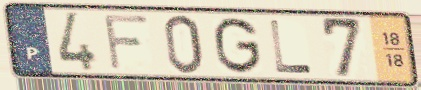0: (161, 12, 207, 76)
4: (55, 9, 101, 74)
7: (318, 15, 366, 82)
F: (101, 12, 152, 72)
G: (213, 15, 264, 76)
L: (266, 18, 315, 75)
